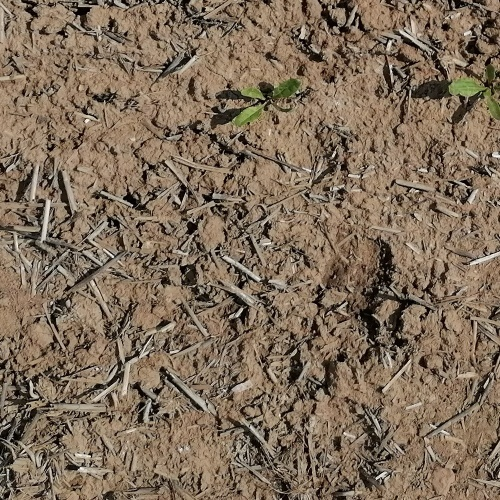beet: (235, 79, 300, 126), (446, 68, 500, 119)
